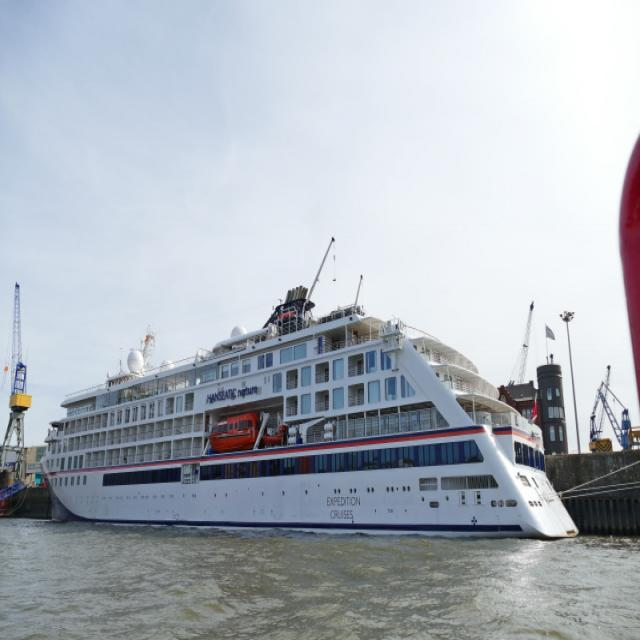cruises: (37, 282, 583, 549)
